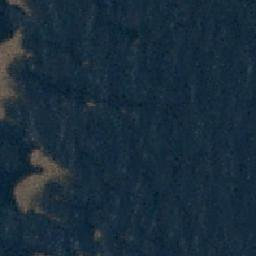debris: (11, 175, 44, 214), (1, 68, 20, 98), (29, 151, 58, 167), (1, 40, 15, 67), (26, 127, 42, 147), (10, 29, 25, 50), (39, 170, 73, 179), (91, 227, 104, 239), (1, 100, 7, 120), (20, 1, 28, 15), (5, 1, 22, 6), (85, 100, 96, 107)
